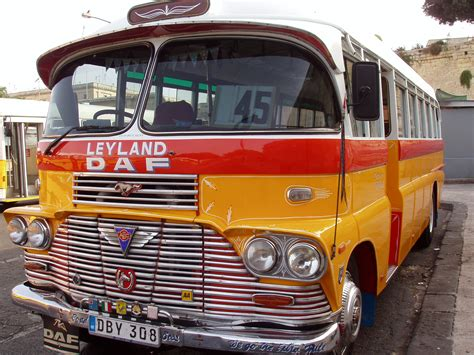bus: (27, 12, 447, 350)
